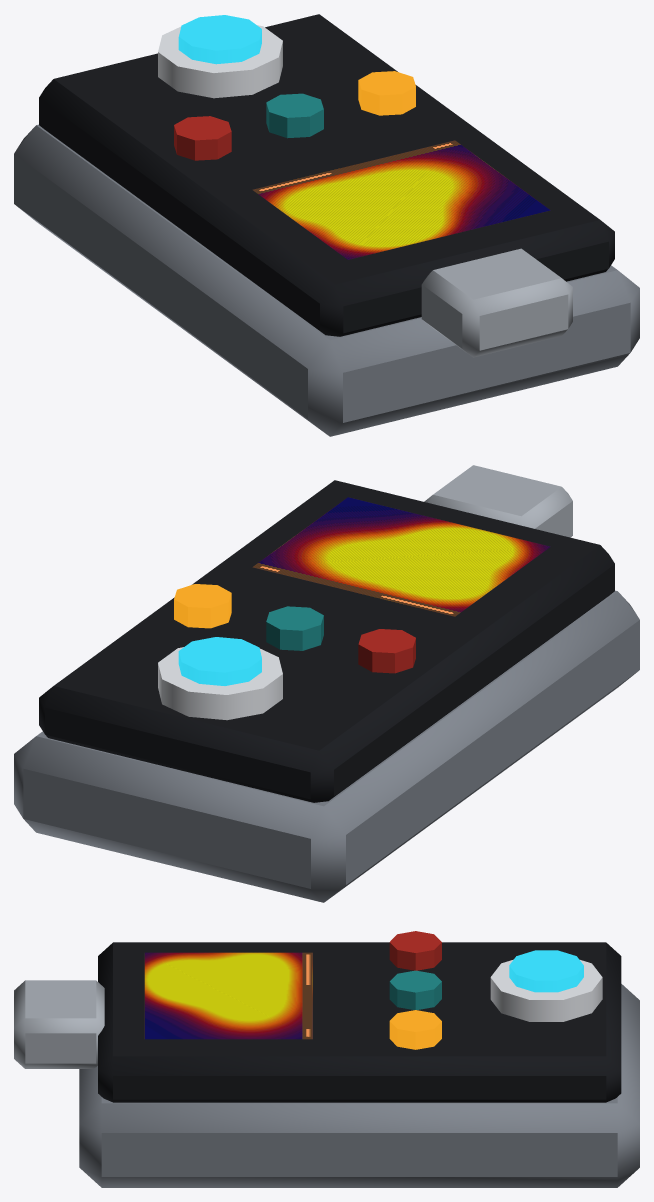
File: medtool_medical_tricorder.glb
3 renders of one model, top to bottom at view 1: azimuth 30°, elevation 25°; view 2: azimuth 150°, elevation 25°; view 3: azimuth 270°, elevation 25°, orthographic. The views are drawn at different scales.
Parts seen in each view (by area): view 1: medtool_medical_tricorder; view 2: medtool_medical_tricorder; view 3: medtool_medical_tricorder.
Boxes of the visible parts, bbox=[...] form: medtool_medical_tricorder: bbox=[14, 14, 639, 436]; medtool_medical_tricorder: bbox=[14, 465, 639, 902]; medtool_medical_tricorder: bbox=[14, 931, 639, 1187].
Size of the model in its own units: 0.18 by 0.095 by 0.335.
Materials: 9 (1 with a texture image).
